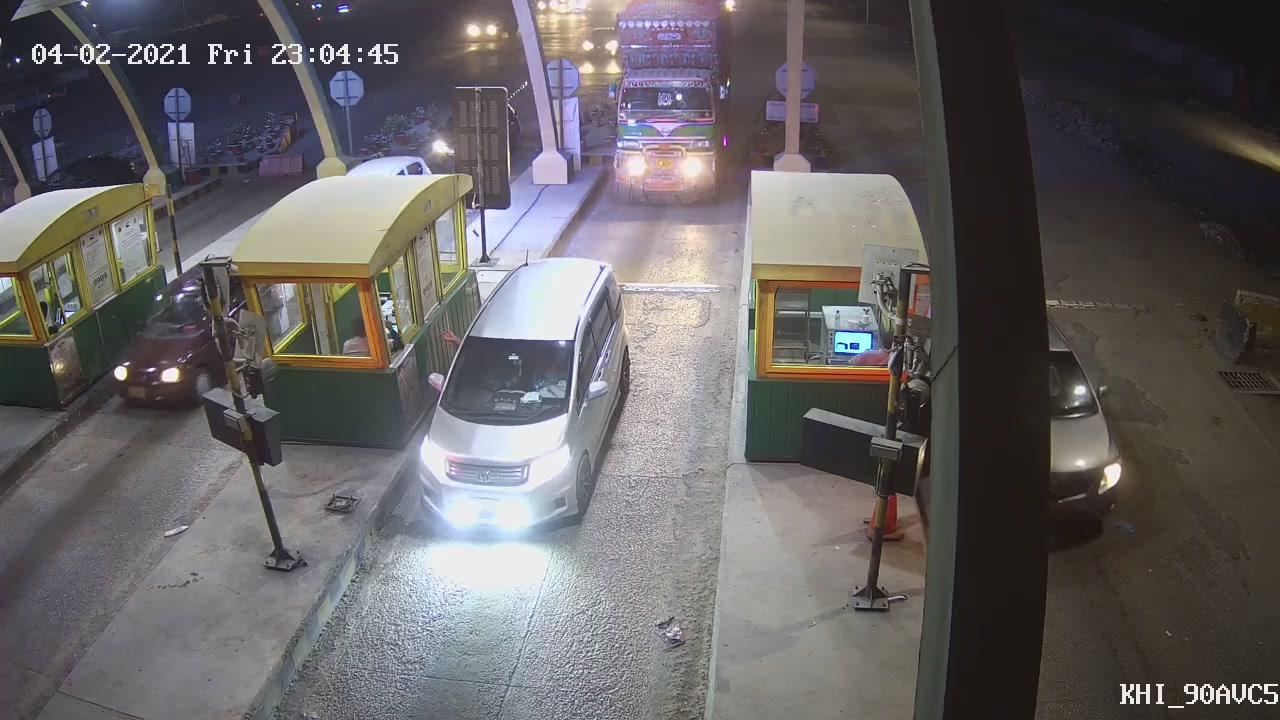F1: (417, 248, 644, 543)
F5: (604, 1, 746, 205)
